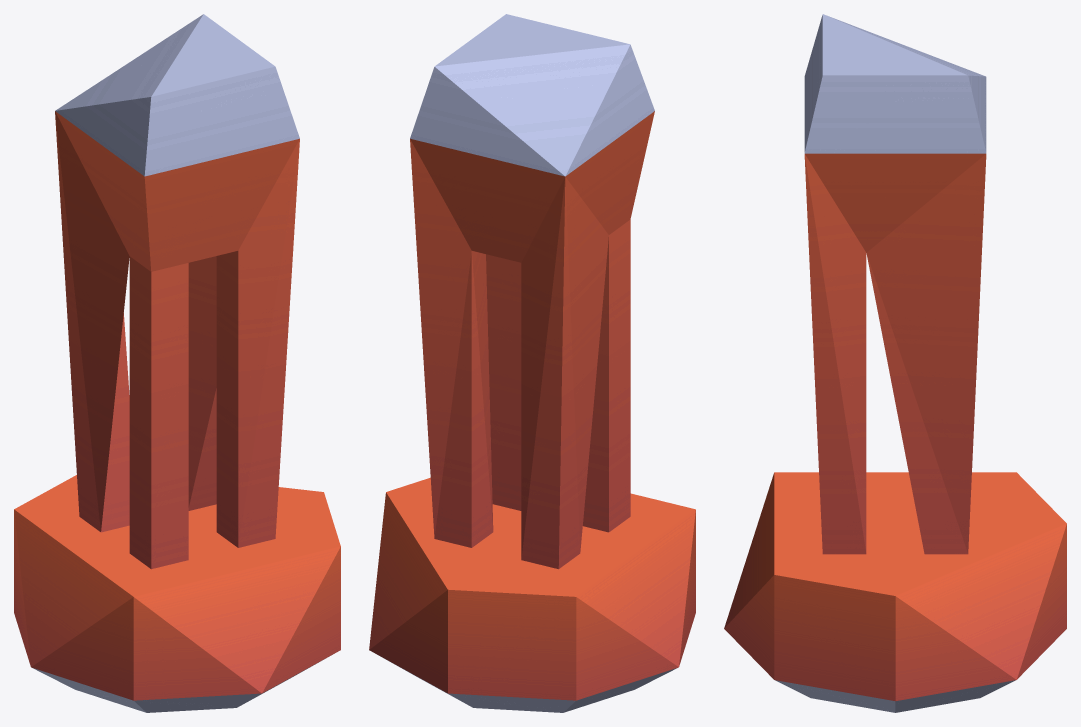
The model's file is buoy.glb.
The picture shows the model from 3 angles, left to right: view 1: azimuth 30°, elevation 25°; view 2: azimuth 150°, elevation 25°; view 3: azimuth 270°, elevation 25°; orthographic projection.
Parts seen in each view (by area): view 1: buoy; view 2: buoy; view 3: buoy.
Part boxes in pixels (x1,y1,x2,y2): buoy: [14, 14, 340, 712]; buoy: [369, 14, 695, 712]; buoy: [724, 14, 1066, 712].
Bounding box in the file's own units: 0.9282 × 1.84 × 0.9282.
1 material, 1 textured.
